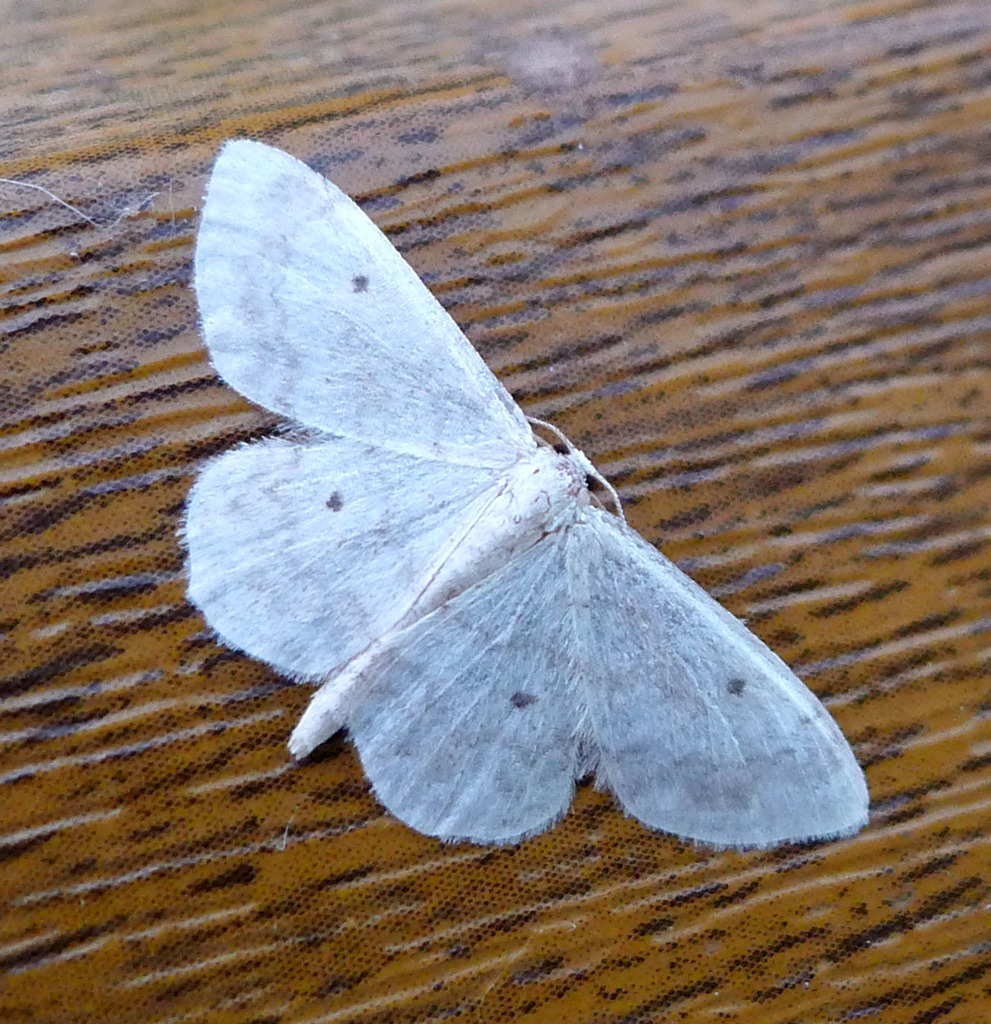Butterfly: (166, 140, 876, 869)
